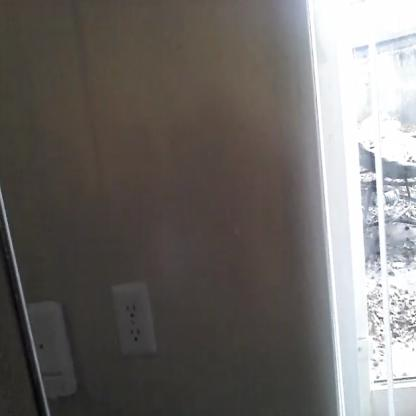OUTLET: (116, 286, 152, 354)
